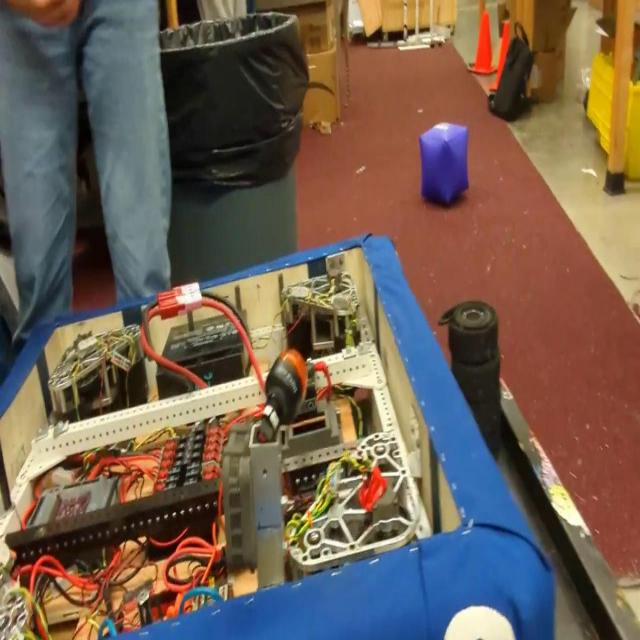frc_cube: (419, 119, 469, 206)
